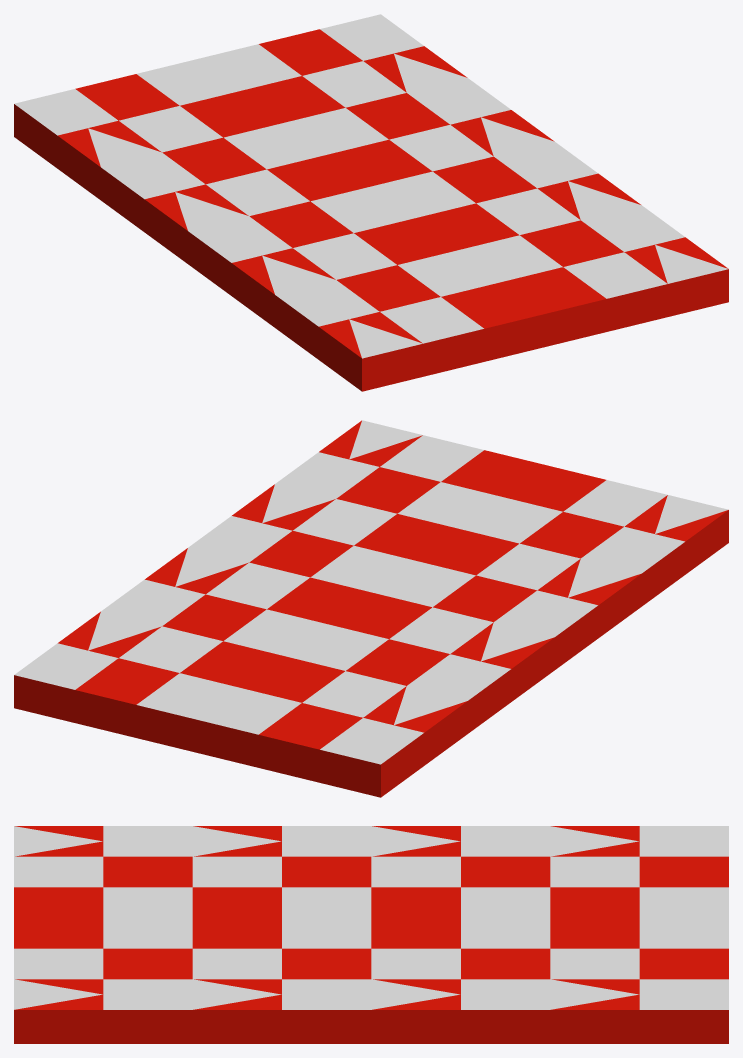
File: Plataforma meta.fbx
The picture shows the model from 3 angles, top to bottom: view 1: azimuth 30°, elevation 25°; view 2: azimuth 150°, elevation 25°; view 3: azimuth 270°, elevation 25°; orthographic projection. The views are drawn at different scales.
Parts seen in each view (by area): view 1: Plane.010; view 2: Plane.010; view 3: Plane.010.
Part boxes in pixels (<box>): Plane.010: <box>14,14,728,391</box>; Plane.010: <box>14,420,728,797</box>; Plane.010: <box>14,826,728,1043</box>.
Size of the model in its own units: 301 by 25.98 by 495.
